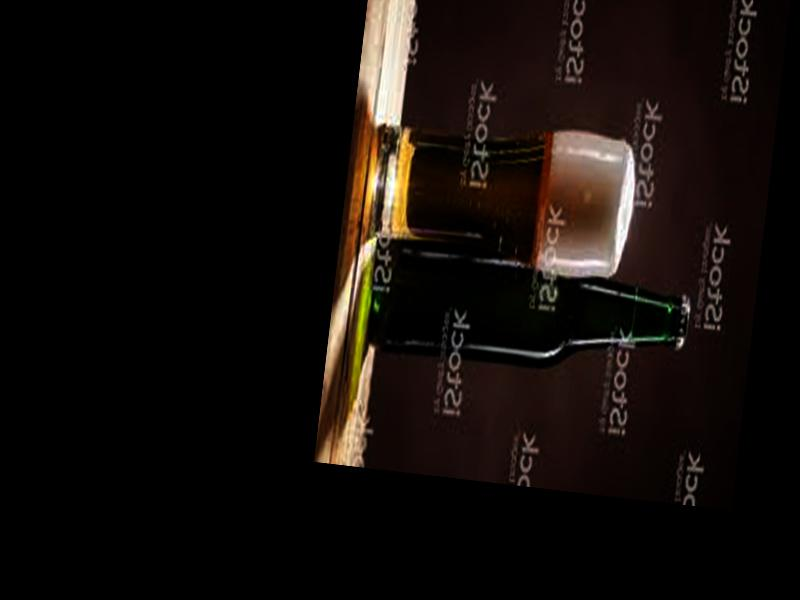Beer: (364, 234, 694, 386)
